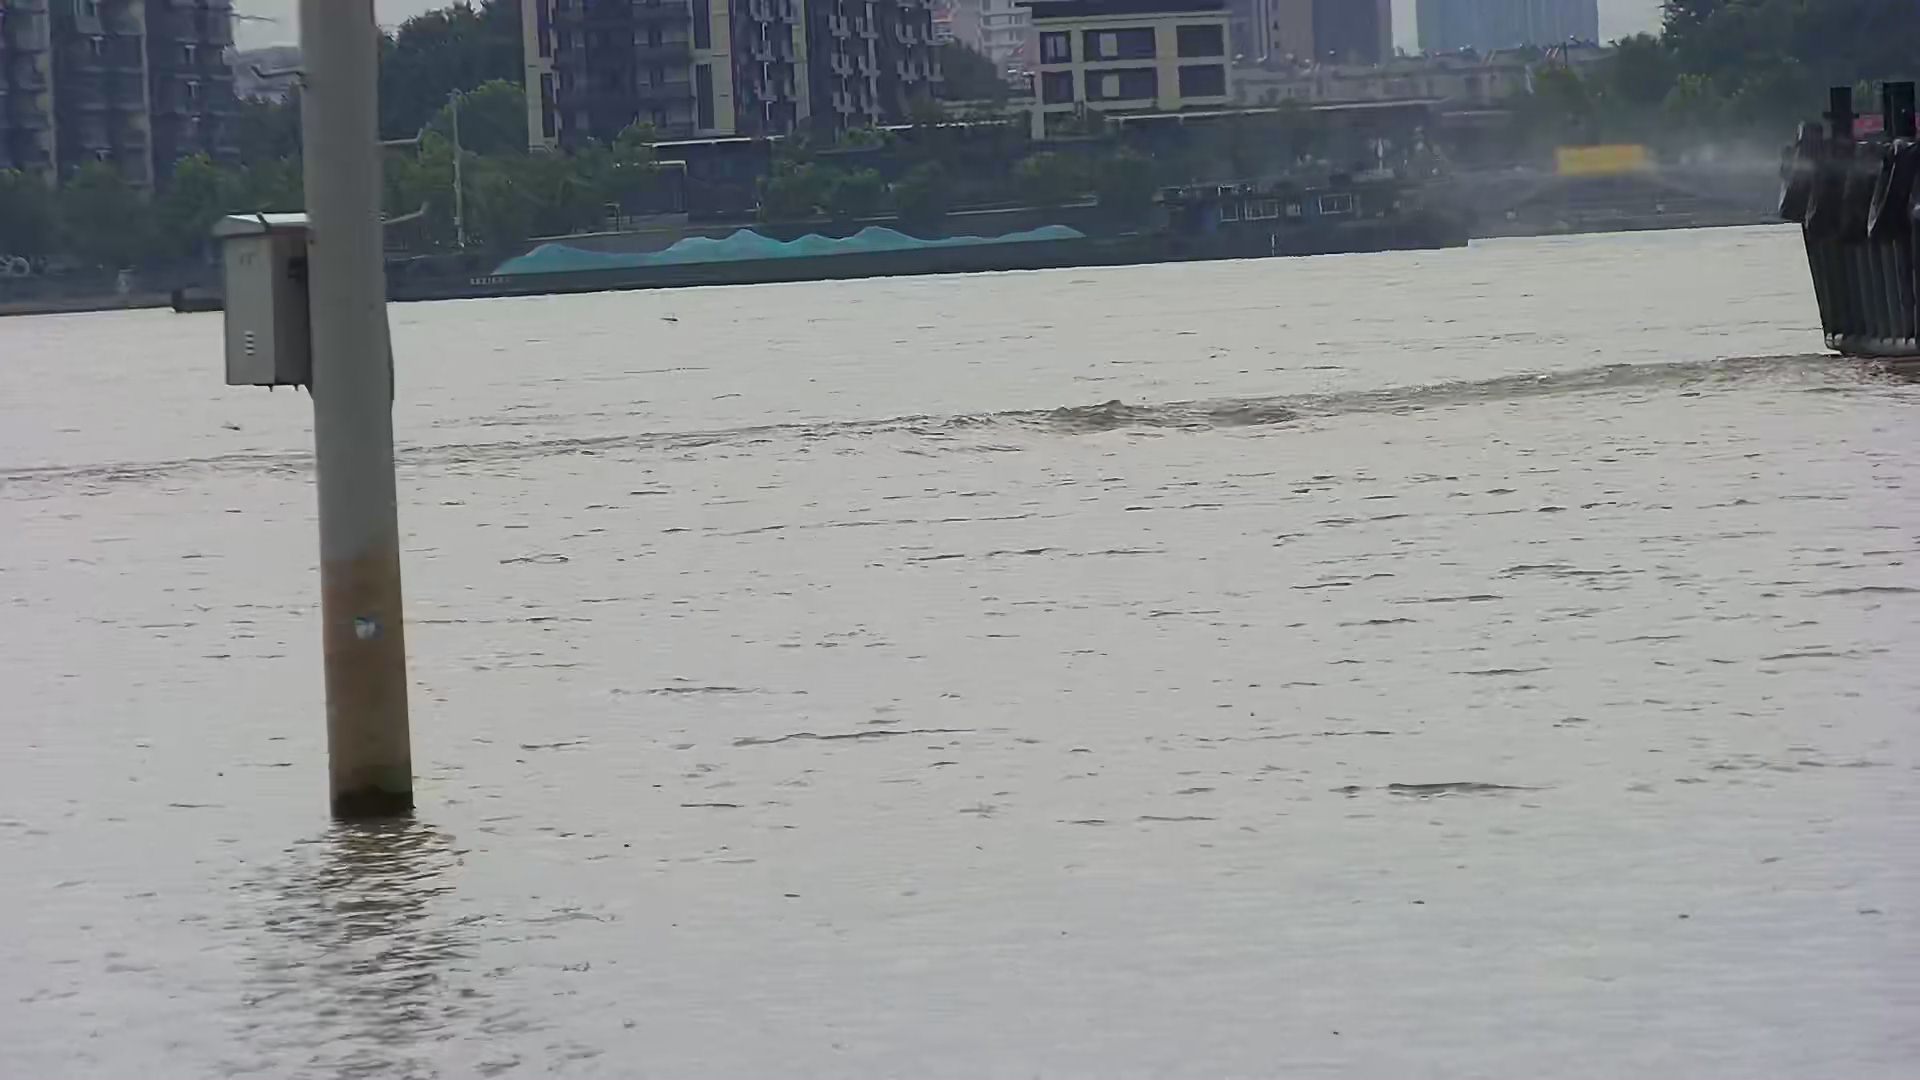mast: (212, 3, 415, 825)
ship: (1780, 80, 1920, 356)
